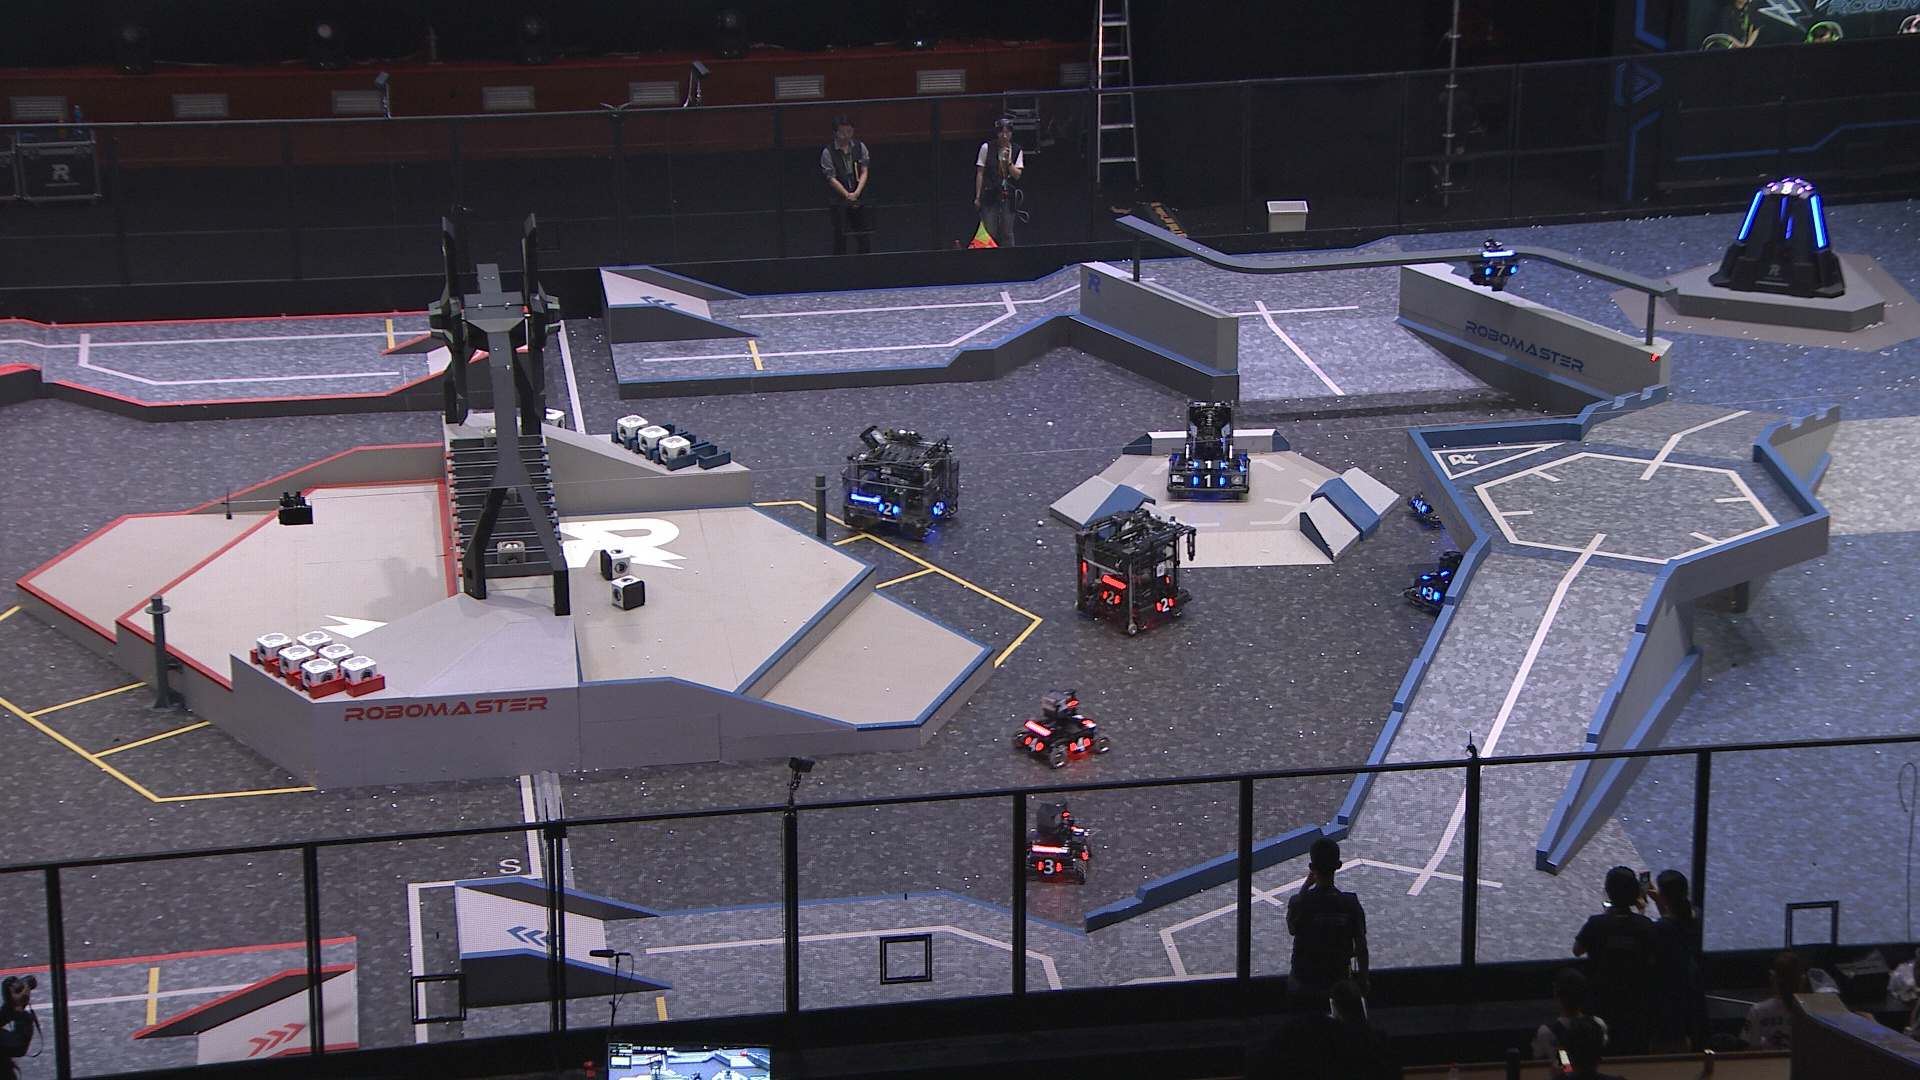armor: (1737, 190, 1760, 243), (1809, 195, 1830, 249), (1191, 473, 1228, 491), (1033, 858, 1065, 877), (1192, 458, 1230, 471), (1485, 264, 1520, 277), (1097, 589, 1122, 608), (1022, 735, 1044, 754), (1422, 585, 1444, 605), (877, 501, 901, 518), (1069, 712, 1093, 727), (1069, 737, 1092, 752), (1154, 597, 1174, 613), (1410, 500, 1429, 516), (932, 500, 948, 518), (1079, 844, 1091, 864), (1784, 216, 1793, 240), (1237, 458, 1247, 472)
base: (1706, 173, 1847, 297)
car: (1073, 506, 1204, 632), (839, 419, 963, 534), (1164, 398, 1250, 498), (1010, 688, 1112, 771), (1013, 798, 1098, 887), (1408, 549, 1490, 618), (1404, 469, 1485, 531)
ignore: (1770, 182, 1804, 196)
watcher: (1465, 235, 1524, 291)
